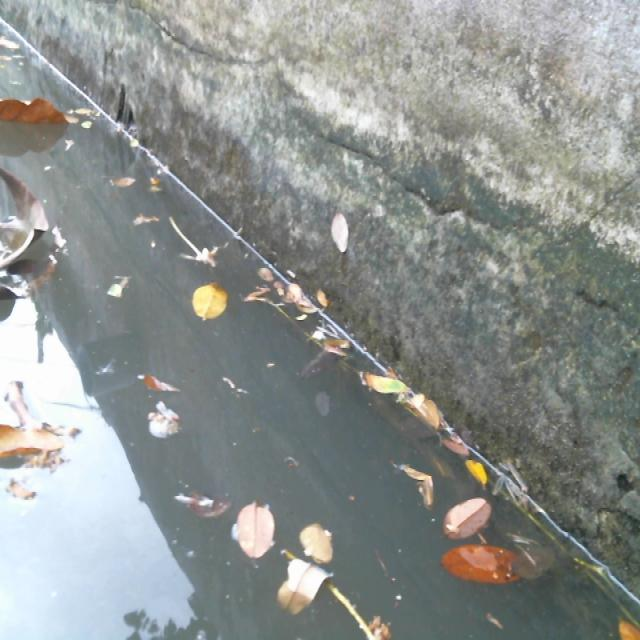Big-leaf: (0, 167, 62, 286), (0, 416, 72, 485), (0, 86, 82, 135)
Small-leaf: (361, 359, 448, 439), (440, 538, 566, 593), (225, 494, 282, 572), (438, 435, 500, 498), (282, 562, 335, 621), (177, 279, 235, 329), (443, 494, 506, 537), (405, 467, 445, 516), (102, 166, 140, 197), (615, 617, 640, 640)
